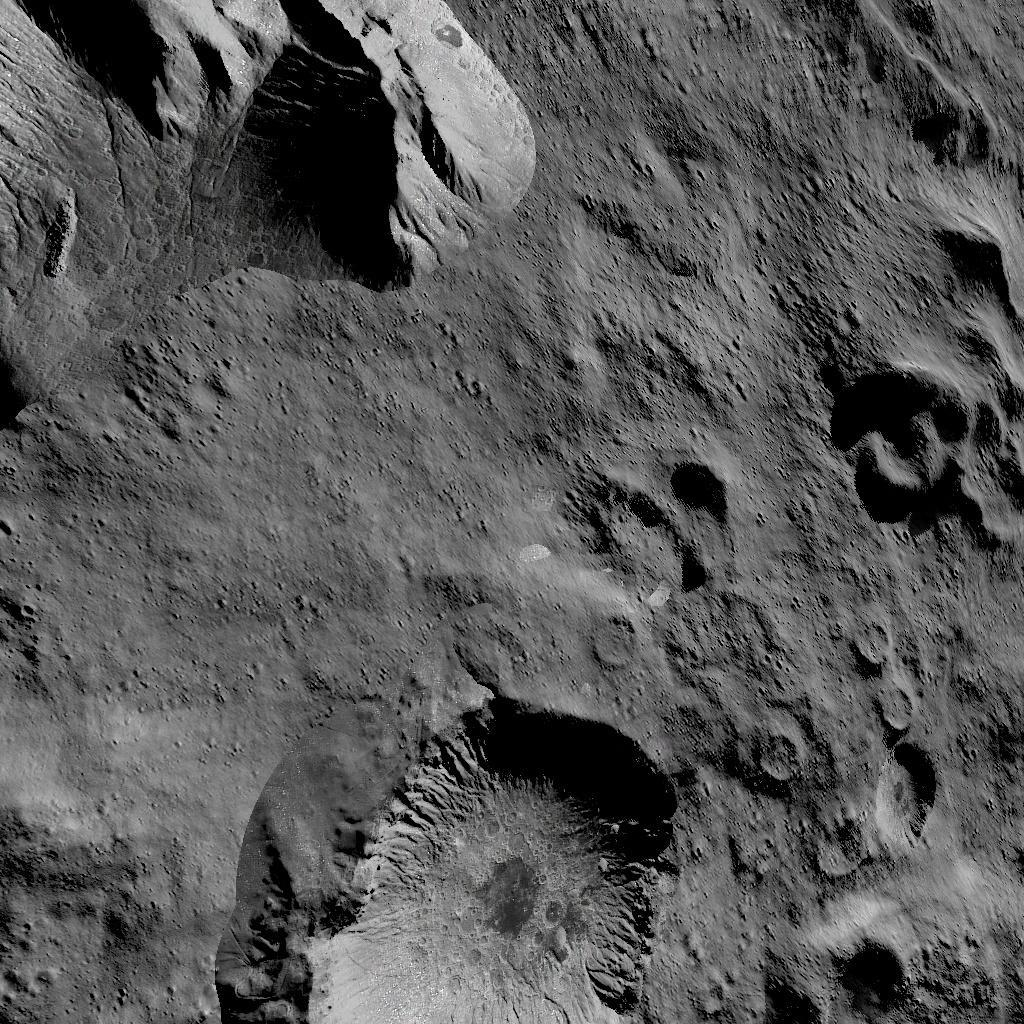Boulders: (3, 0, 536, 366)
Crater: (207, 691, 698, 1024), (813, 356, 1024, 540), (574, 450, 732, 602), (845, 613, 943, 854), (774, 896, 922, 1024), (748, 726, 806, 788), (586, 616, 644, 672)
Plan surface: (3, 374, 540, 680), (553, 0, 770, 436), (3, 692, 171, 1024)
